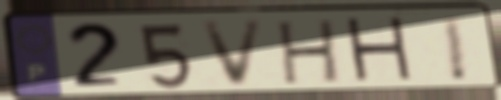2: (61, 20, 134, 95)
5: (135, 20, 196, 90)
H: (341, 14, 419, 88), (276, 17, 342, 88)
I: (437, 13, 472, 84)
V: (198, 17, 269, 91)
